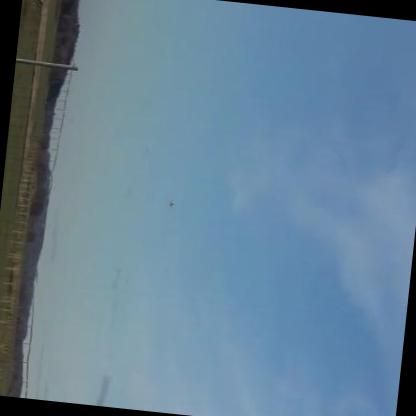plane: (163, 200, 178, 209)
